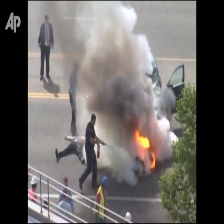fire_h: (135, 132, 150, 160)
fire_l: (150, 151, 157, 169)
